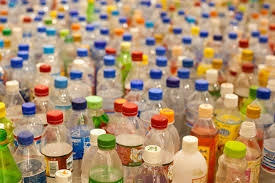plastic: (109, 100, 152, 183), (9, 98, 51, 170), (39, 109, 79, 183), (139, 114, 181, 183), (185, 99, 222, 170), (9, 128, 53, 183), (84, 133, 130, 182), (179, 74, 214, 138), (214, 91, 243, 163), (170, 133, 211, 183), (212, 137, 252, 183), (6, 54, 31, 123), (48, 74, 75, 134), (250, 84, 275, 147), (236, 119, 262, 178), (95, 67, 124, 115), (29, 81, 56, 132), (125, 74, 147, 130), (138, 88, 172, 119)
